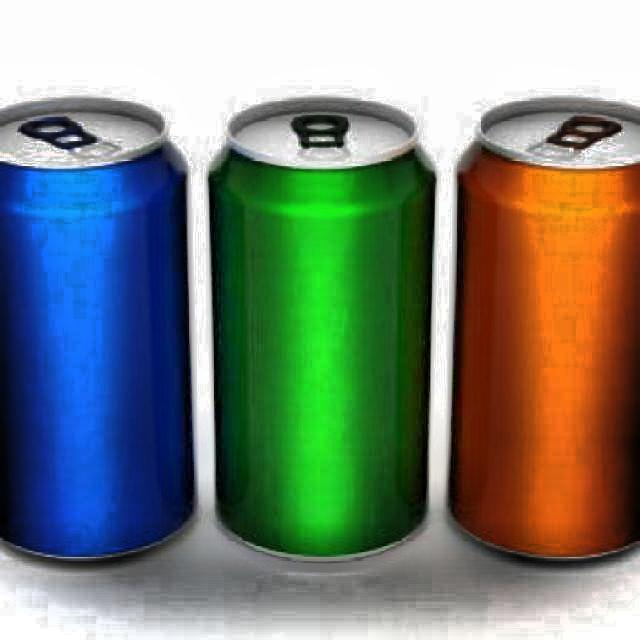can: (206, 92, 441, 564), (0, 92, 202, 569), (444, 92, 640, 564)
